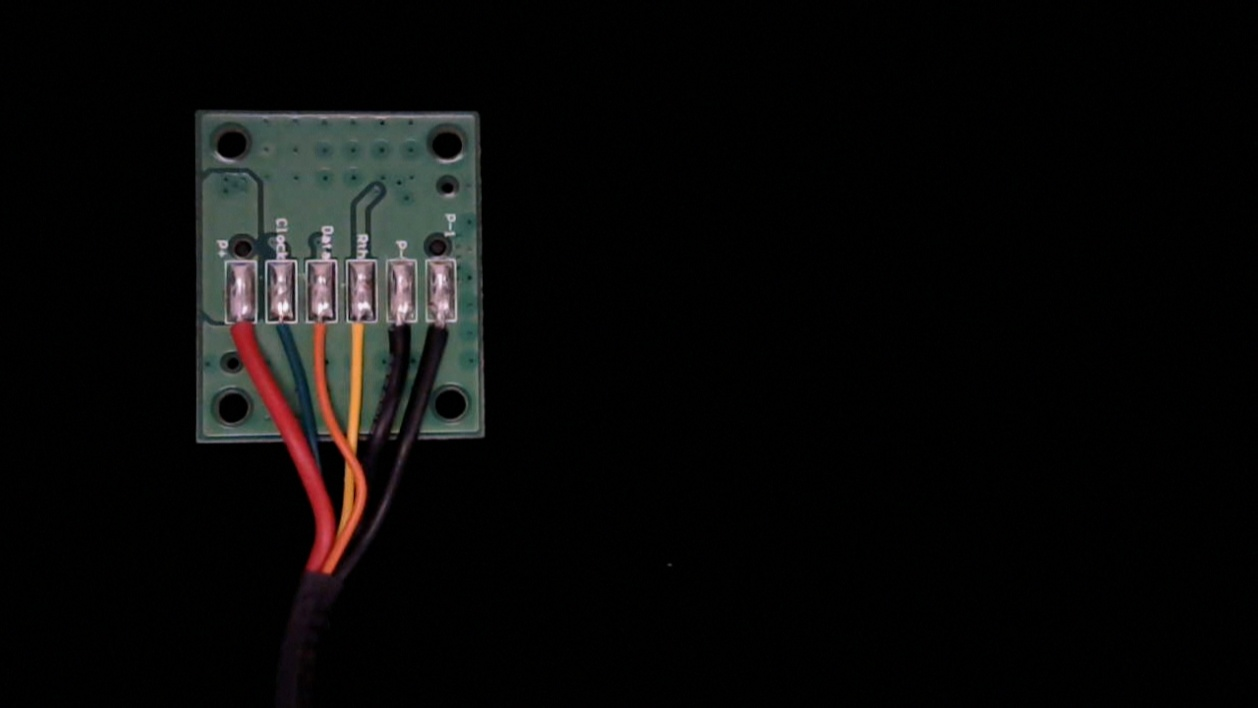Black: (385, 297, 420, 370)
Black1: (425, 298, 458, 365)
Green: (267, 298, 301, 367)
Orange: (306, 299, 339, 370)
Red: (223, 298, 259, 367)
Yellow: (345, 298, 379, 371)
